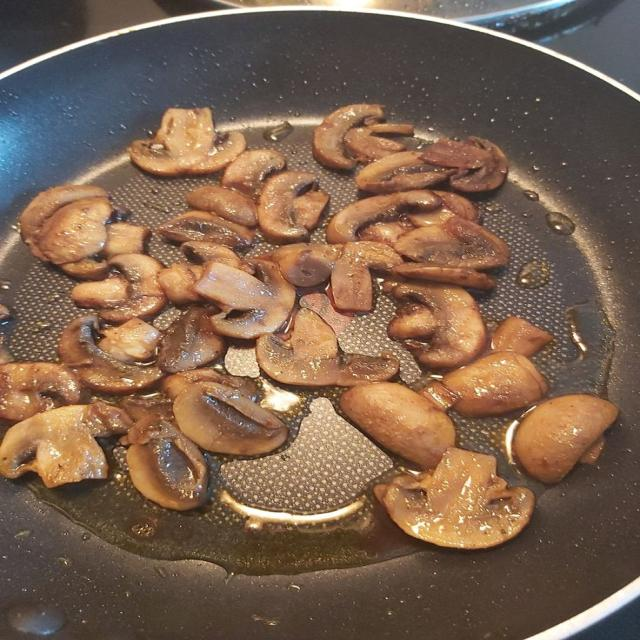champignon mushrooms: (375, 449, 534, 549), (0, 402, 131, 487), (256, 309, 399, 386), (340, 383, 455, 468), (514, 395, 618, 483), (174, 383, 288, 456), (389, 284, 486, 369), (126, 410, 208, 510), (422, 352, 547, 417), (60, 316, 163, 394), (194, 260, 295, 339), (129, 108, 246, 175), (359, 191, 479, 246), (20, 185, 107, 259), (394, 216, 510, 270), (327, 190, 441, 243), (34, 197, 112, 264), (258, 171, 328, 243), (331, 242, 402, 311), (0, 363, 83, 421), (422, 137, 508, 192), (313, 104, 385, 169), (100, 254, 166, 322), (157, 308, 226, 373), (355, 152, 455, 193), (157, 211, 254, 248), (221, 149, 286, 200), (161, 368, 259, 401), (271, 244, 341, 287), (187, 186, 257, 227), (99, 318, 161, 364), (344, 124, 413, 163), (394, 263, 495, 289), (492, 317, 553, 356), (181, 241, 253, 273), (157, 263, 203, 305), (388, 303, 438, 340), (71, 276, 127, 308), (102, 222, 150, 258), (359, 216, 413, 247), (120, 395, 173, 422), (434, 191, 479, 221), (60, 257, 109, 280), (0, 304, 13, 323)
